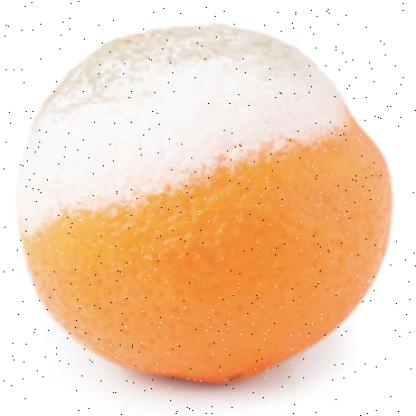rotten: (14, 25, 393, 379)
